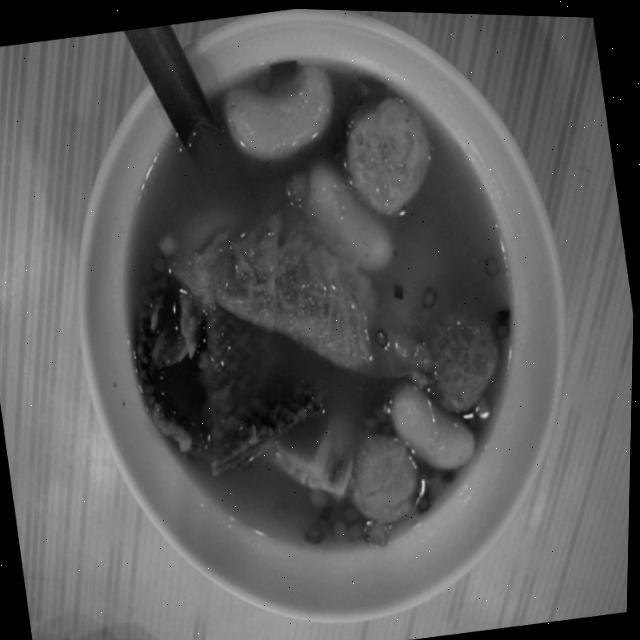熟制海鲜: (62, 11, 574, 623)
